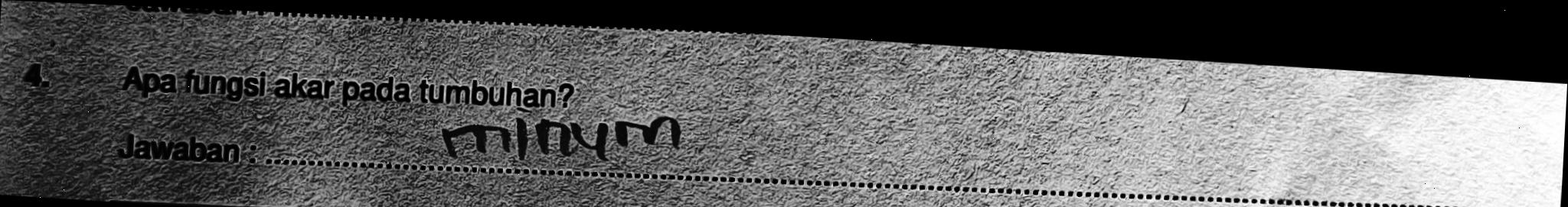jawaban: (445, 105, 692, 170)
